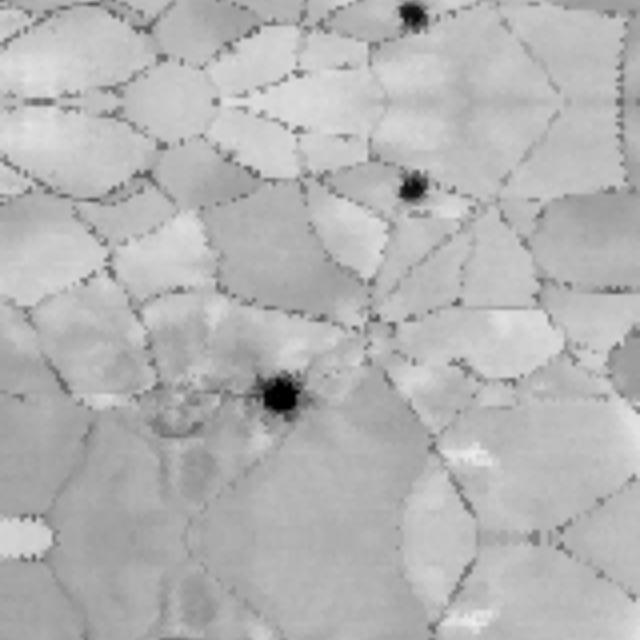good_void: (123, 373, 215, 453), (253, 359, 317, 427), (390, 164, 436, 216), (391, 0, 436, 40), (106, 167, 157, 201), (106, 3, 157, 37)
